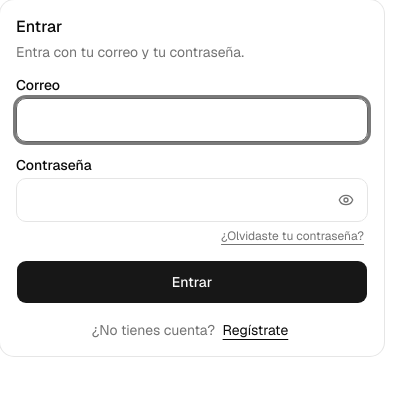
FormularioEntrar › un código del correo marca solo el correo
Type "a@b.co" into the field labelled "Correo" at (192, 120), box [16,98,368,142]
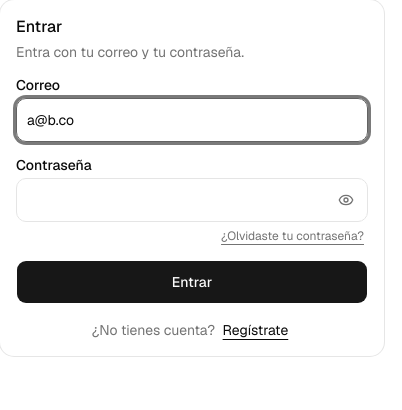
Type "secreta123" into the password field labelled "Contraseña" at (192, 200), box [16,178,368,222]
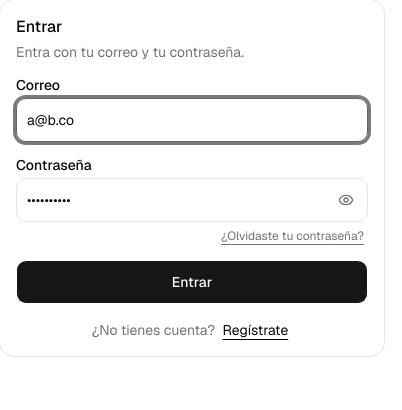
Click the button "Entrar" at (192, 282), box [16,260,368,304]
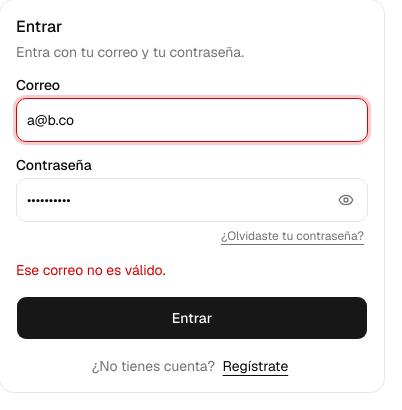
Now the message reads "Ese correo no es válido.", box [16,261,166,279]
